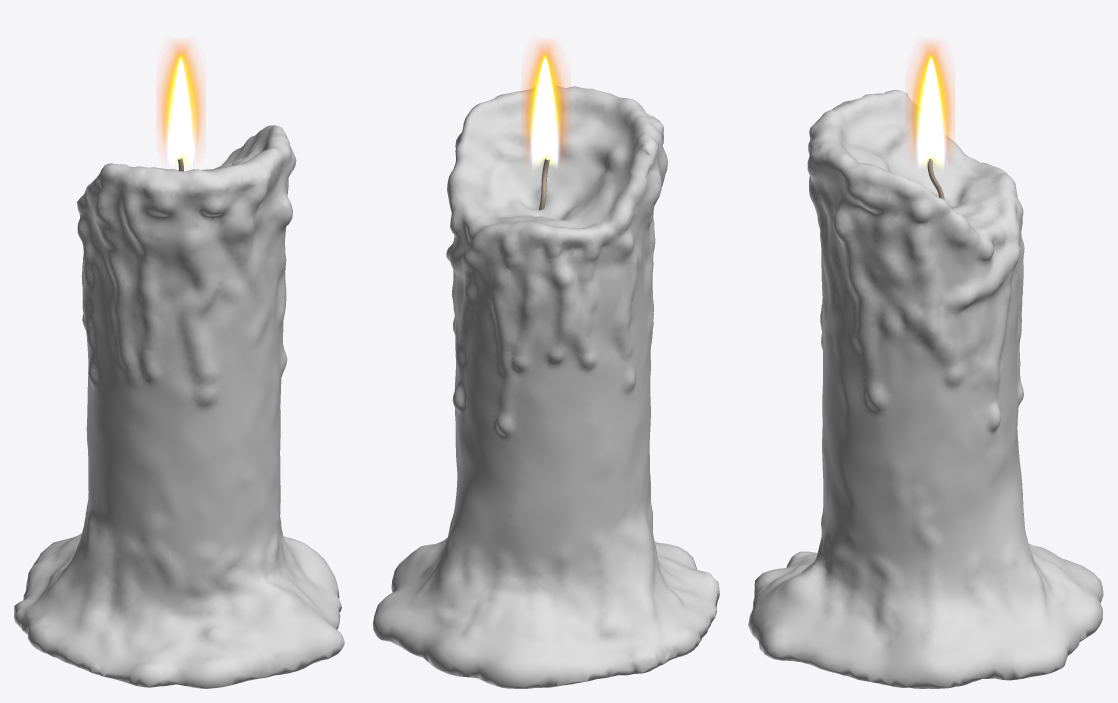
The model's file is just_a_candle.glb.
3 renders of one model, left to right at view 1: azimuth 30°, elevation 25°; view 2: azimuth 150°, elevation 25°; view 3: azimuth 270°, elevation 25°, orthographic.
Parts seen in each view (by area): view 1: Cylinder_0, Object_8, Object_6; view 2: Cylinder_0, Object_10, Object_8; view 3: Cylinder_0, Object_10, Object_6.
Part boxes in pixels (x1=…): Cylinder_0: x1=14, y1=125, x2=344, y2=688; Object_8: x1=162, y1=45, x2=201, y2=167; Object_6: x1=160, y1=45, x2=200, y2=167; Cylinder_0: x1=373, y1=86, x2=719, y2=688; Object_10: x1=524, y1=45, x2=564, y2=169; Object_8: x1=525, y1=45, x2=565, y2=168; Cylinder_0: x1=748, y1=90, x2=1103, y2=688; Object_10: x1=911, y1=45, x2=951, y2=170; Object_6: x1=910, y1=45, x2=950, y2=168.
Bounding box in the file's own units: 3.53 × 6.74 × 3.67.
3 materials, 1 textured.
